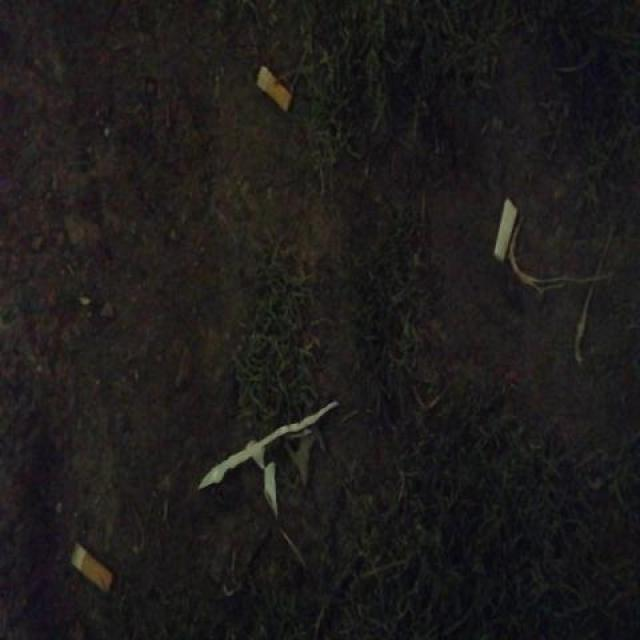non-organic waste: (63, 535, 117, 596), (250, 59, 293, 116), (490, 193, 521, 267)
